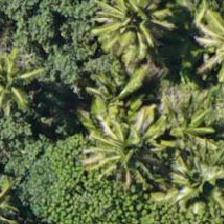coconut_tree: (82, 99, 172, 189), (89, 0, 179, 65), (0, 34, 53, 124)
